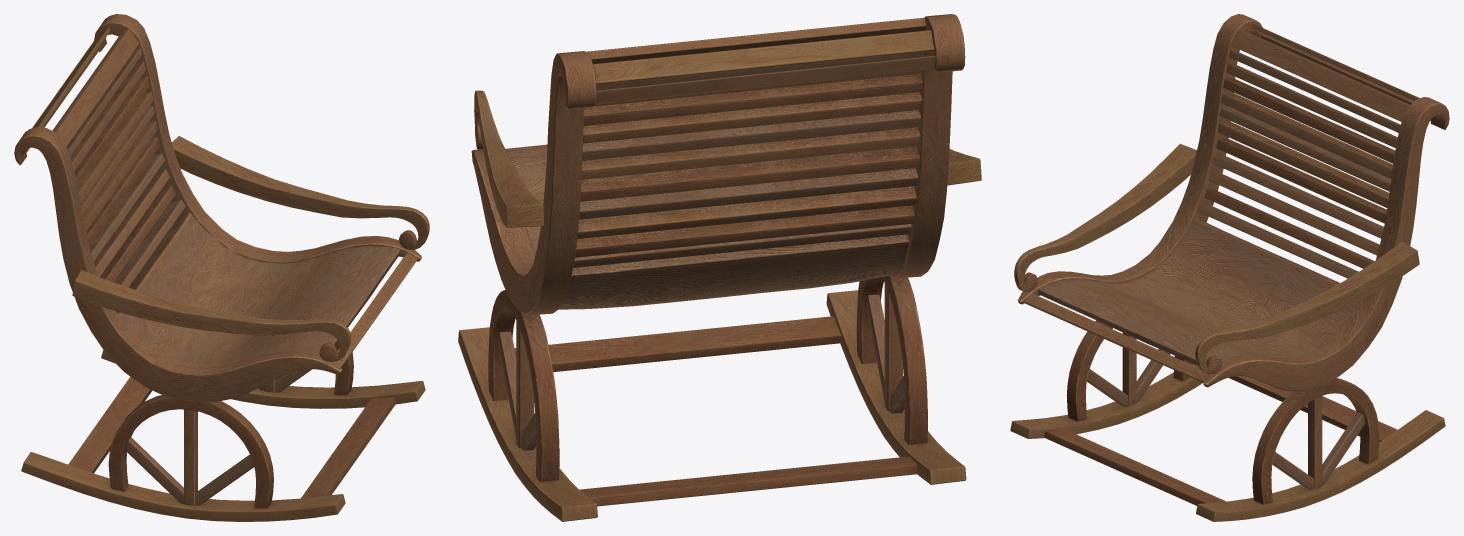
File: Chair1.glb
3 views of the same model, side by side, from view 1: azimuth 30°, elevation 25°; view 2: azimuth 150°, elevation 25°; view 3: azimuth 270°, elevation 25° (orthographic). The views are drawn at different scales.
Parts seen in each view (by area): view 1: node_id35; view 2: node_id35; view 3: node_id35.
Boxes of the visible parts, box(x1,y1,x2,y2) form: node_id35: box(14, 14, 429, 521); node_id35: box(458, 14, 981, 521); node_id35: box(1010, 14, 1449, 521).
Bounding box in the file's own units: 0.5793 × 0.512 × 0.5811.
Materials: 1 (1 with a texture image).
